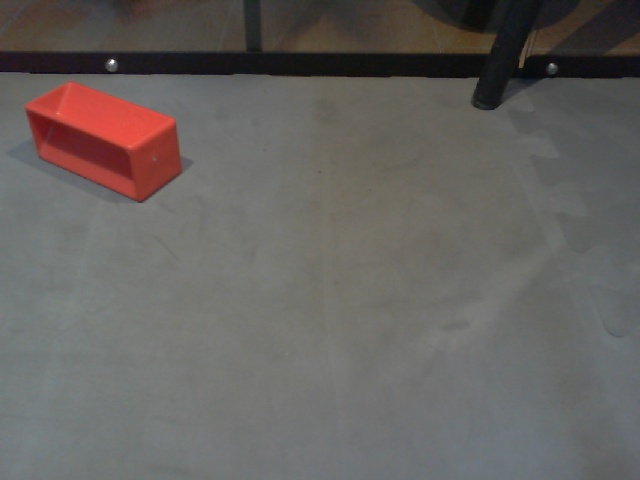RedSample: (24, 80, 183, 204)
